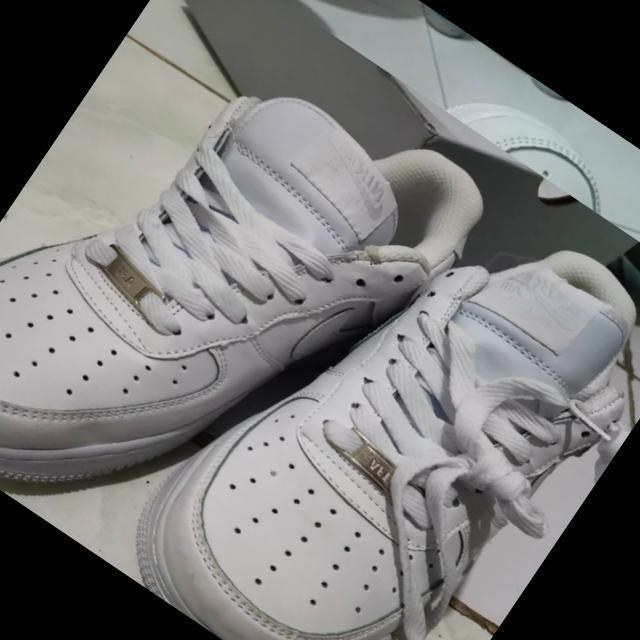nike fake air force: (0, 0, 504, 633), (105, 122, 640, 640)
